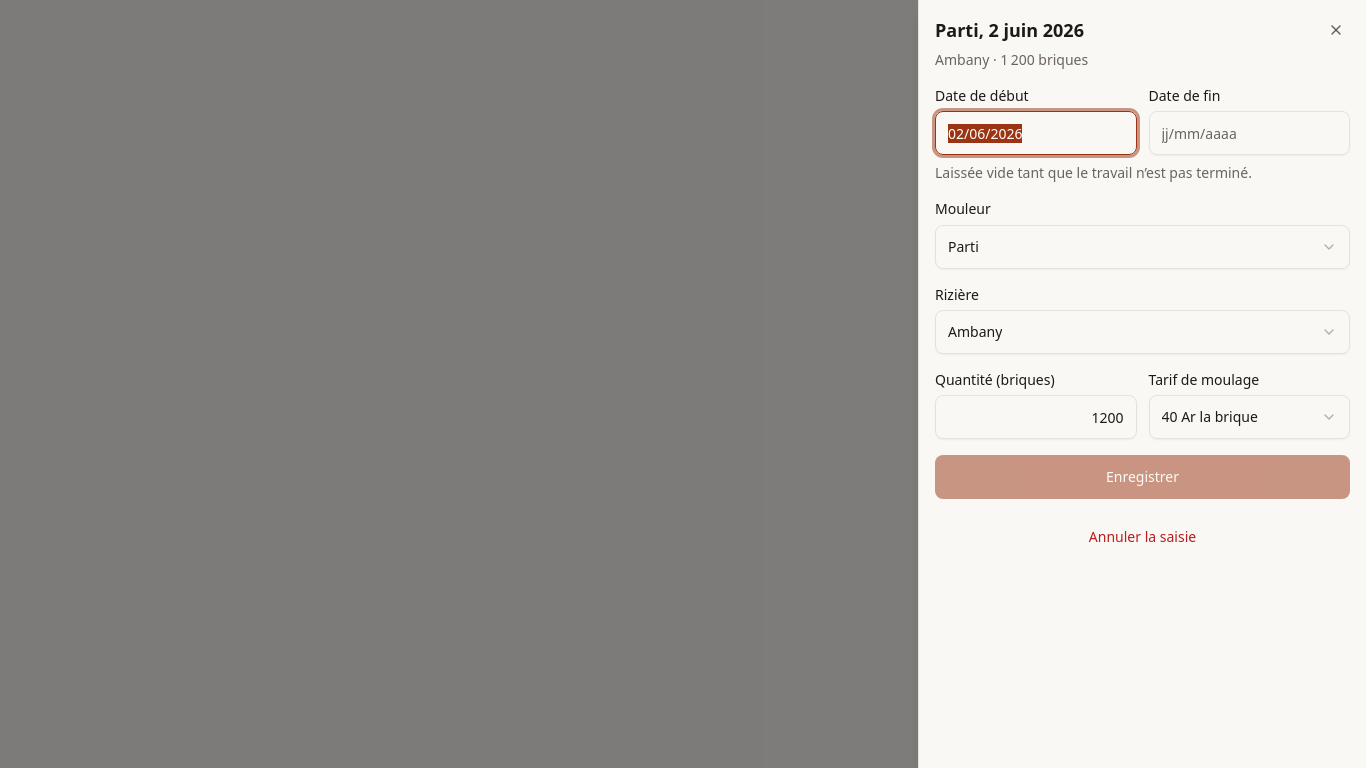
Scenario: ProductionPage › corrects an entry, offering its own moulder even retired but no other retired one
Expected: the heading "Parti, 2 juin 2026" is shown, x1=935 y1=18 x2=1084 y2=42
Click the dropdown named "Mouleur" at (963, 246), box x1=935 y1=224 x2=1350 y2=268
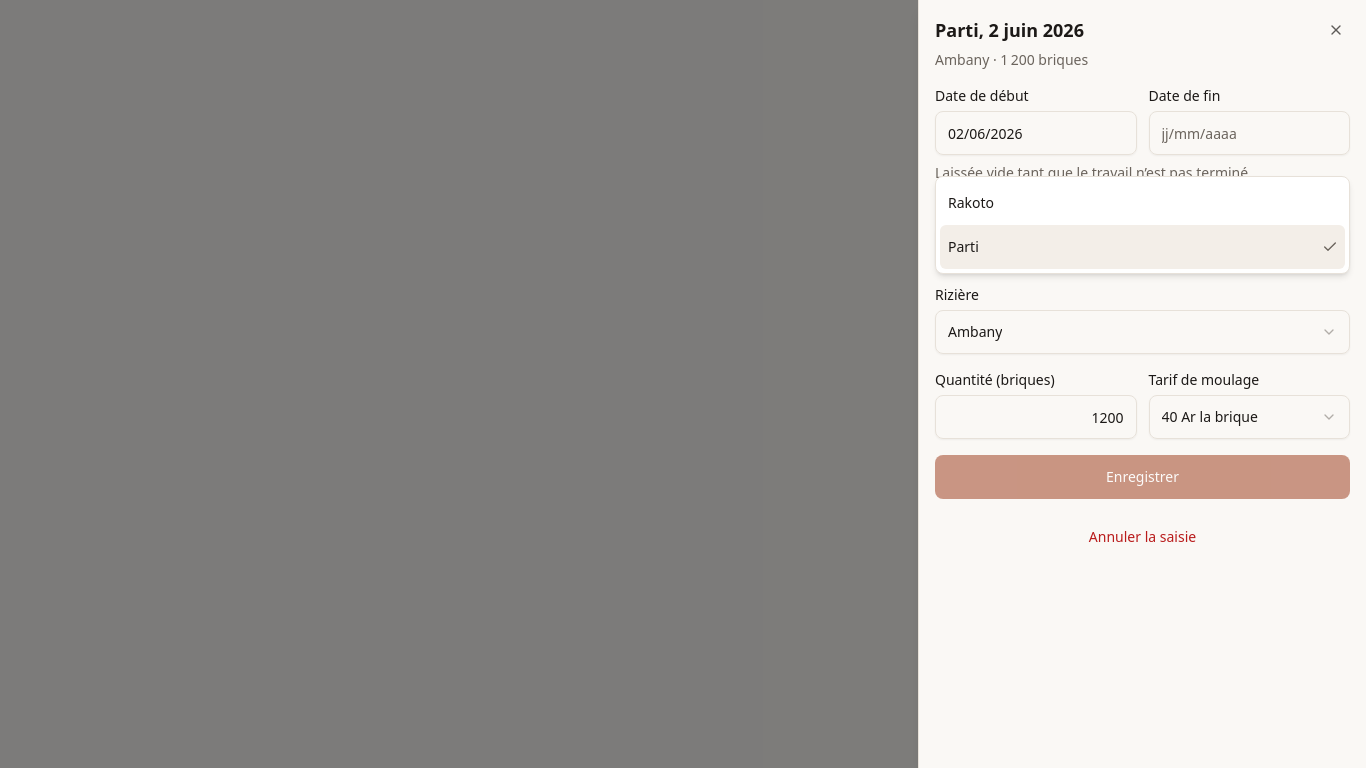
Expected: the option "Parti" is shown
Click the option "Parti" at (963, 246), box x1=940 y1=224 x2=1345 y2=268
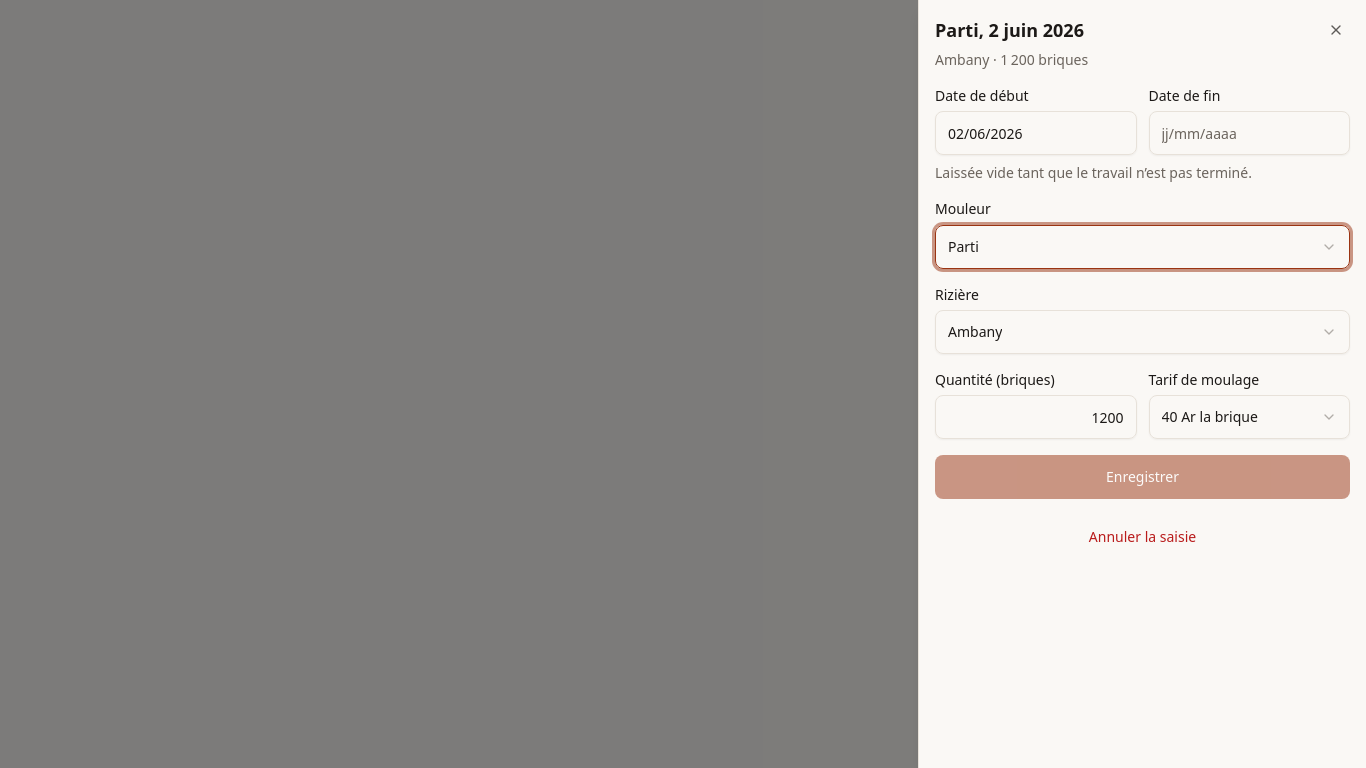
Replace the text in the field labelled "Quantité (briques)" with "1300" at (1036, 417), box x1=935 y1=395 x2=1136 y2=439
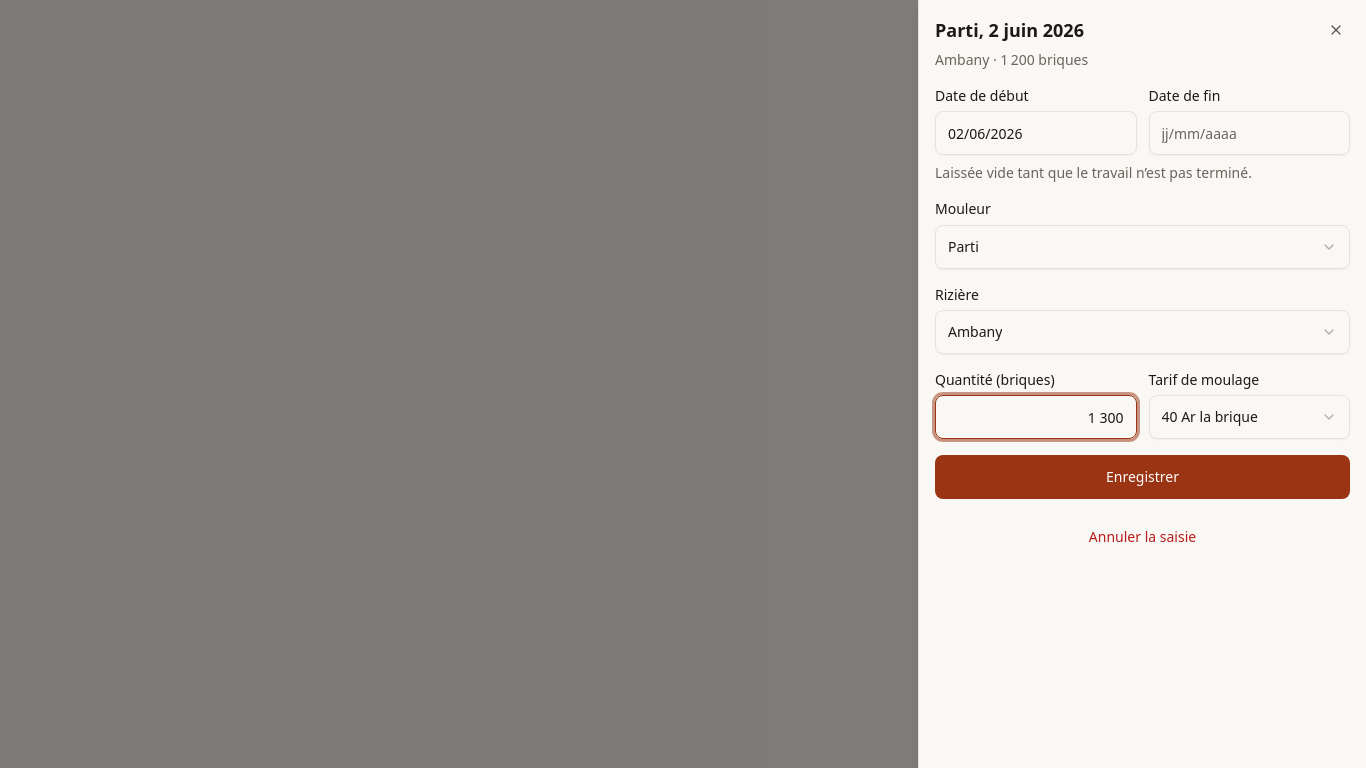
Click the button "Enregistrer" at (1142, 477), box x1=935 y1=455 x2=1350 y2=499
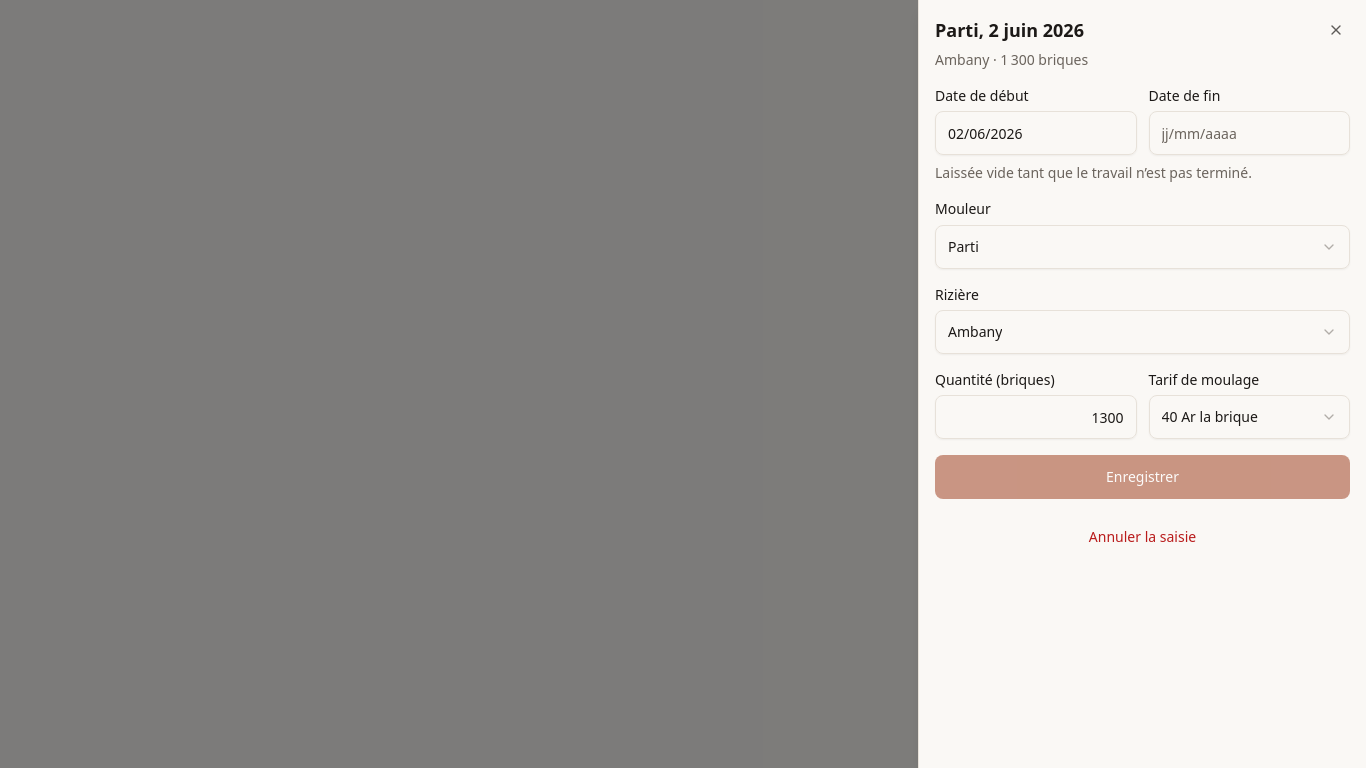
Expected: the text "Ambany · 1 300 briques" is shown, x1=935 y1=50 x2=1088 y2=69
